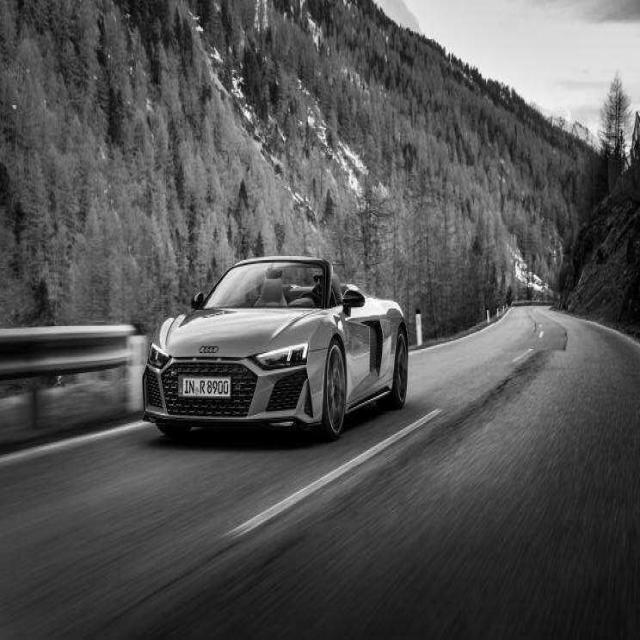Sedan: (142, 256, 410, 444)
